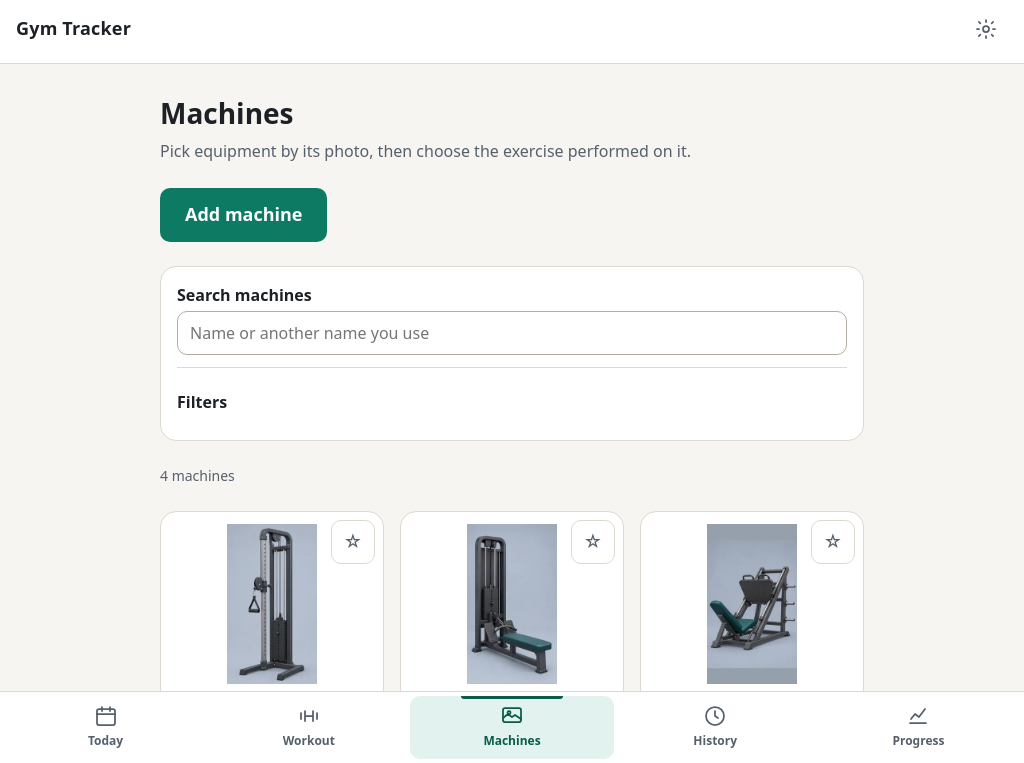
Test: the low cable row station › lists the seated cable row with its sample setup
Click the link with aria-label "Open Low cable row station".
click(512, 618)  # box top-left (413, 524), bottom-right (611, 712)
(page scrolled)
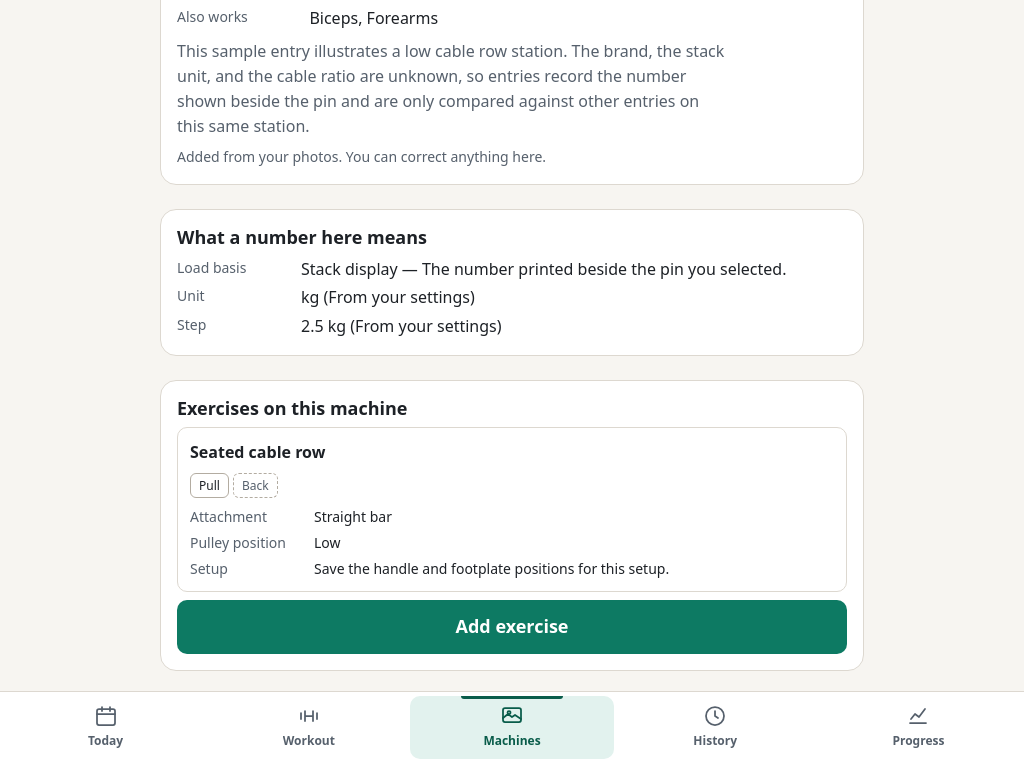
Expected: the heading "Seated cable row" is shown, top-left (190, 441), bottom-right (325, 463)
Expected: the text "Straight bar" is shown, top-left (314, 507), bottom-right (392, 526)
Expected: the text "Low" is shown, top-left (314, 533), bottom-right (340, 552)
